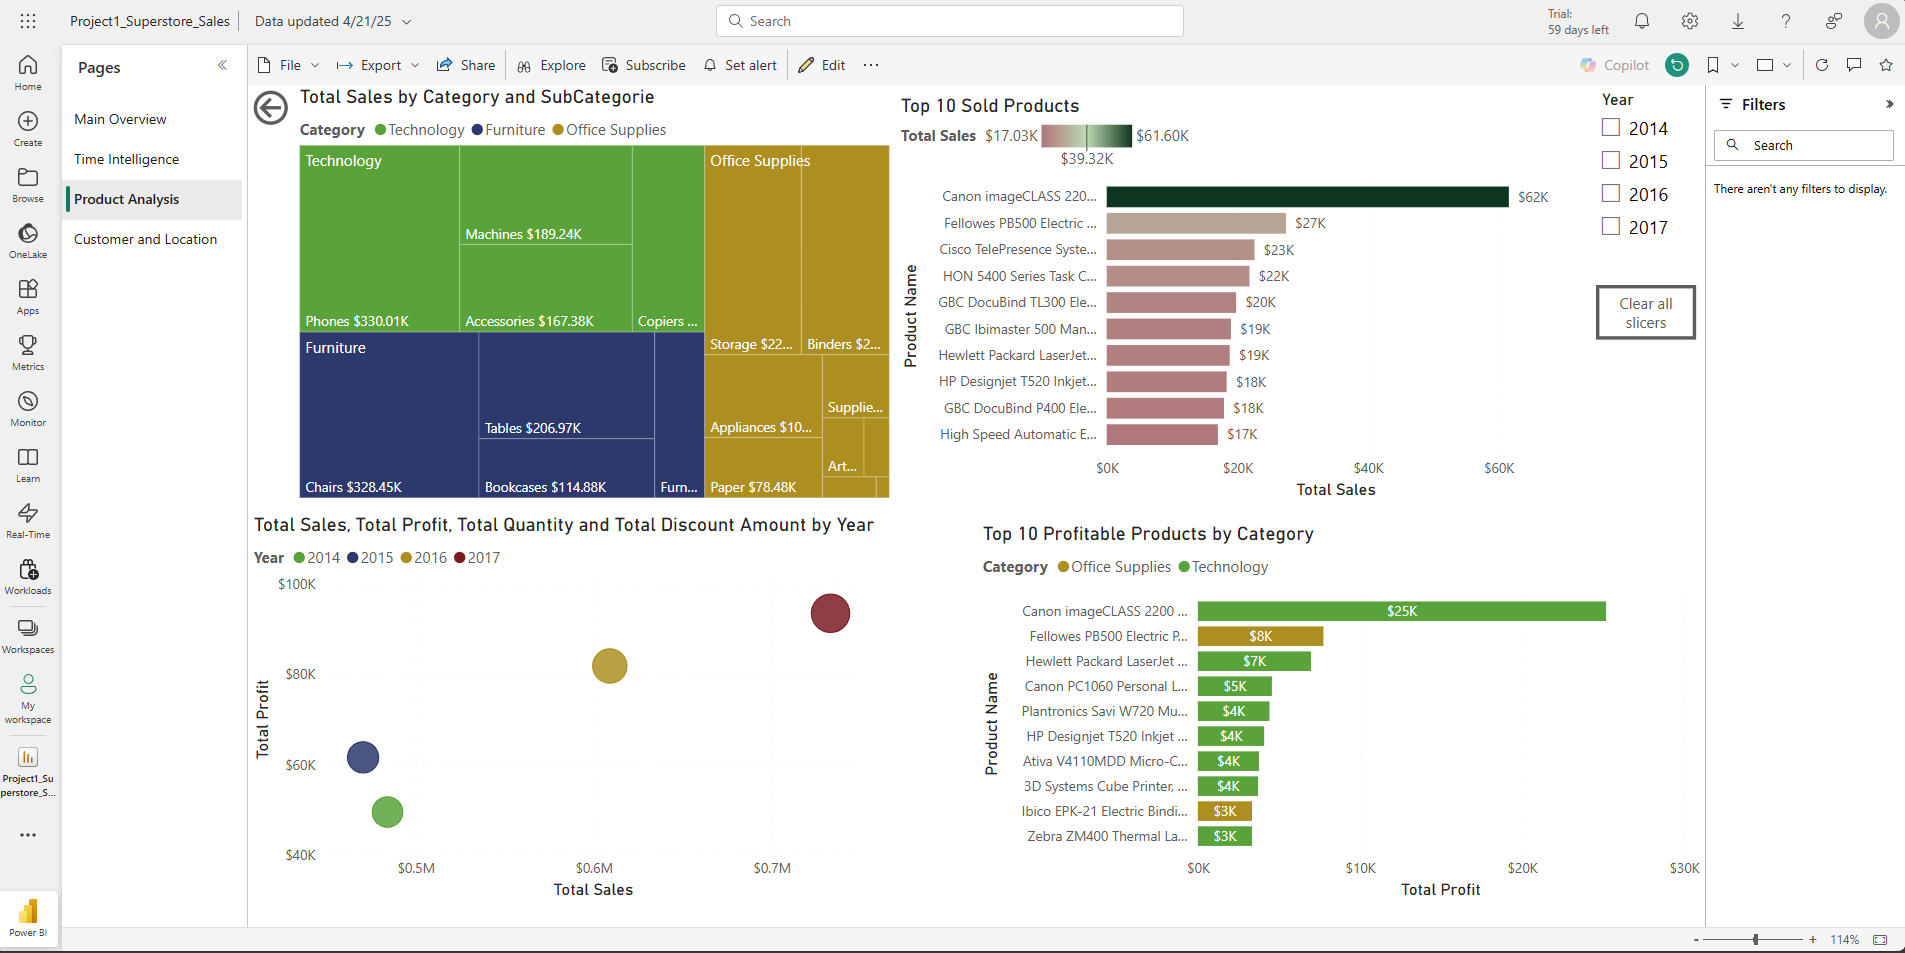

Layout of this report page (visuals, bound fields, positions):
{"tool":"powerbi","page":{"name":"Product Analysis","canvas":[1280,720],"ordinal":2},"visuals":[{"type":"treemap","fields":{"Values":["FactSales.Total Sales"],"Group":["ProductDimension.Category"],"Details":["ProductDimension.SubCategorie"]},"box":[40,0,528,368],"z":0},{"type":"clusteredBarChart","title":"Top 10 Sold Products","fields":{"Category":["ProductDimension.Product Name"],"Y":["FactSales.Total Sales"]},"box":[568,8,608,360],"z":1000},{"type":"actionButton","box":[0,0,100,40],"z":2000},{"type":"scatterChart","title":"Total Sales, Total Profit, Total Quantity and Total Discount Amount by Year ","fields":{"X":["FactSales.Total Sales"],"Y":["FactSales.Total Profit"],"Category":["DateDimension.Year Hierarchy.Year"],"Size":["FactSales.Total Quantity"],"Series":["DateDimension.Year Hierarchy.Year"]},"box":[0,376,560,344],"z":3000},{"type":"barChart","title":"Top 10 Profitable Products by Category","fields":{"Category":["ProductDimension.Product Name"],"Y":["FactSales.Total Profit"],"Series":["ProductDimension.Category"]},"box":[640,384,640,336],"z":4000},{"type":"slicer","fields":{"Values":["DateDimension.Year Hierarchy.Year"]},"box":[1176,0,104,168],"z":5000},{"type":"actionButton","box":[1184,176,88,48],"z":6000}]}

Visuals, with their boxes on the page's 1280x720 design canvas (x1, y1, x2, y2). These are canvas units, not pixel positions in the 1905x953 screenshot, which may show the page scaled, cropped or inside an application window:
treemap - FactSales.Total Sales x ProductDimension.Category: 40 0 568 368
"Top 10 Sold Products" clusteredBarChart: 568 8 1176 368
actionButton: 0 0 100 40
"Total Sales, Total Profit, Total Quantity and Total Discount Amount by Year " scatterChart: 0 376 560 720
"Top 10 Profitable Products by Category" barChart: 640 384 1280 720
slicer - DateDimension.Year Hierarchy.Year: 1176 0 1280 168
actionButton: 1184 176 1272 224
